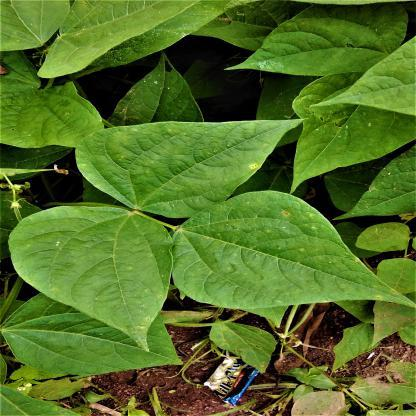Beans_Rust: (174, 191, 410, 308), (8, 203, 173, 345), (77, 119, 306, 216)
